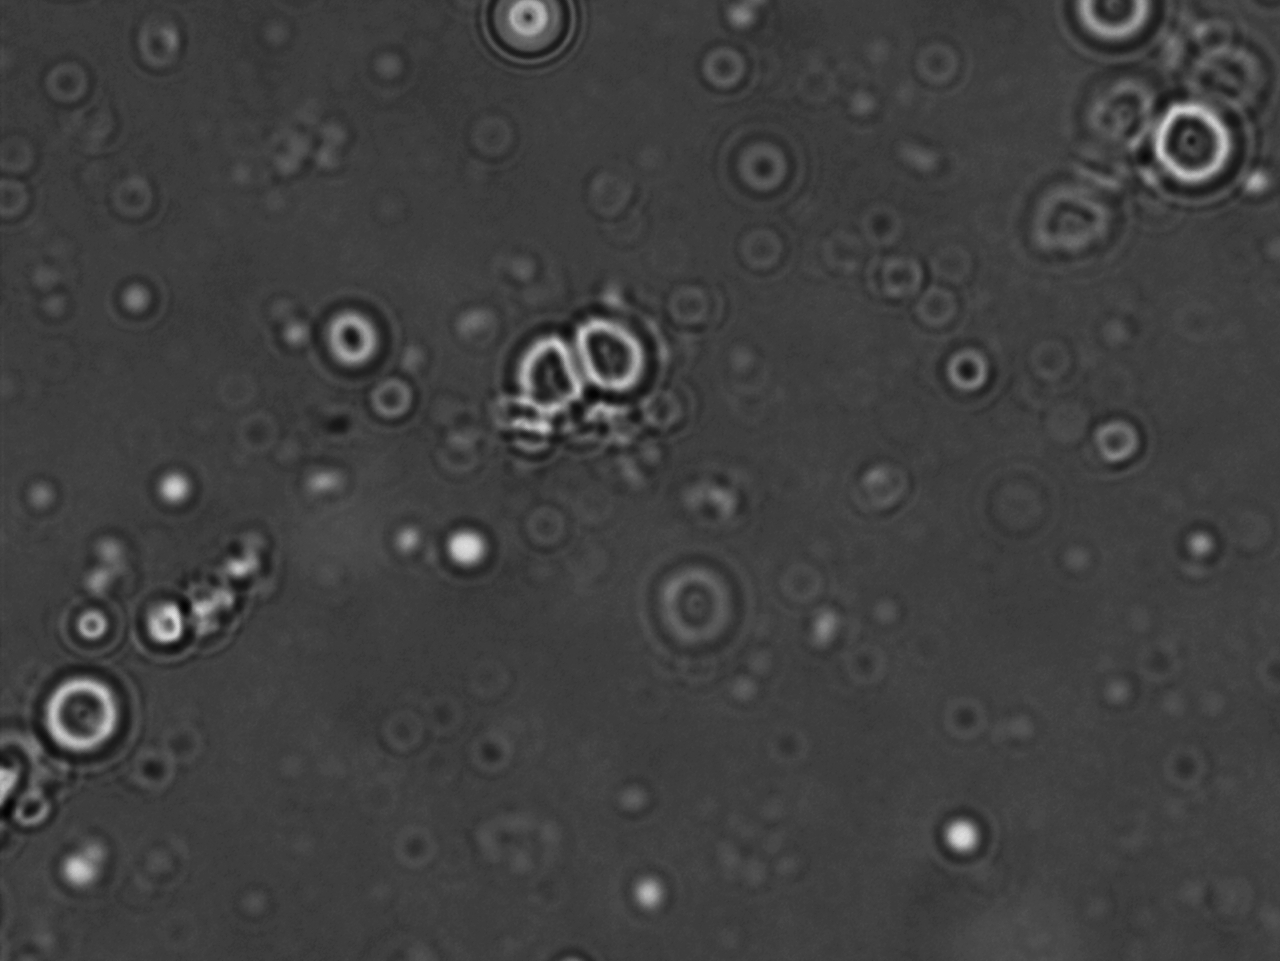depth:8: (1138, 89, 1251, 208), (28, 662, 139, 766)
